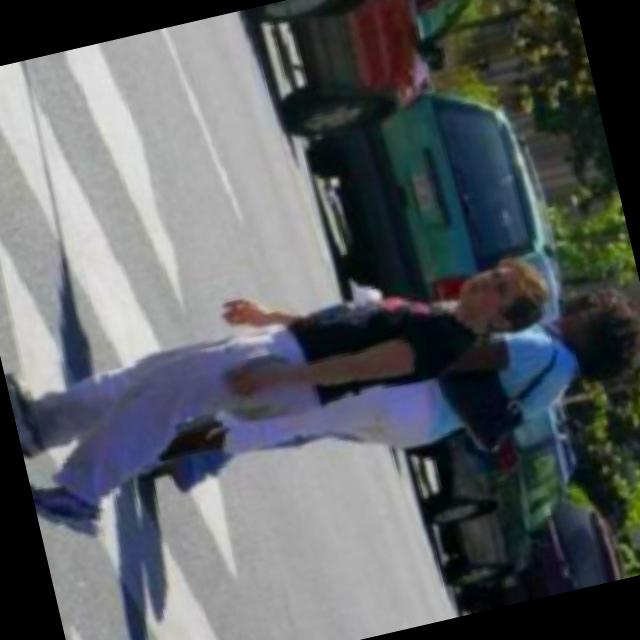Person: (0, 226, 580, 545), (135, 274, 640, 515)
